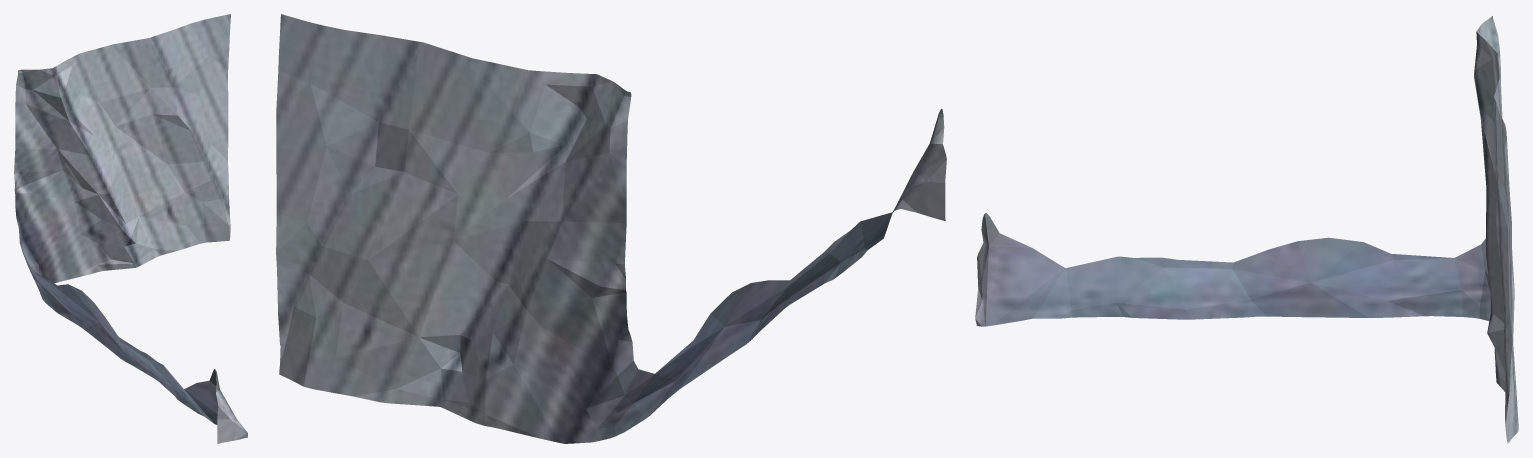
The model's file is Tile_+001_+007_L24_0000303.obj.
The picture shows the model from 3 angles, left to right: view 1: azimuth 30°, elevation 25°; view 2: azimuth 150°, elevation 25°; view 3: azimuth 270°, elevation 25°; orthographic projection. The views are drawn at different scales.
Size of the model in its own units: 0.9531 by 0.9531 by 1.6.
Materials: 1 (1 with a texture image).
